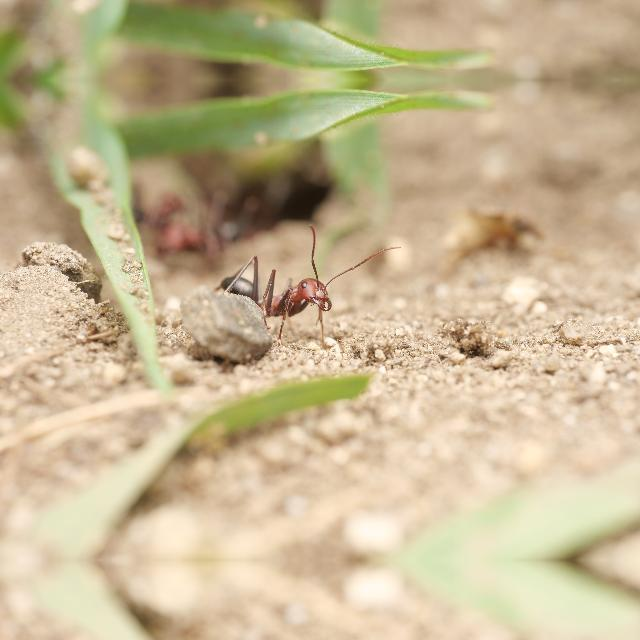Cataglyphis: (216, 255, 352, 331)
